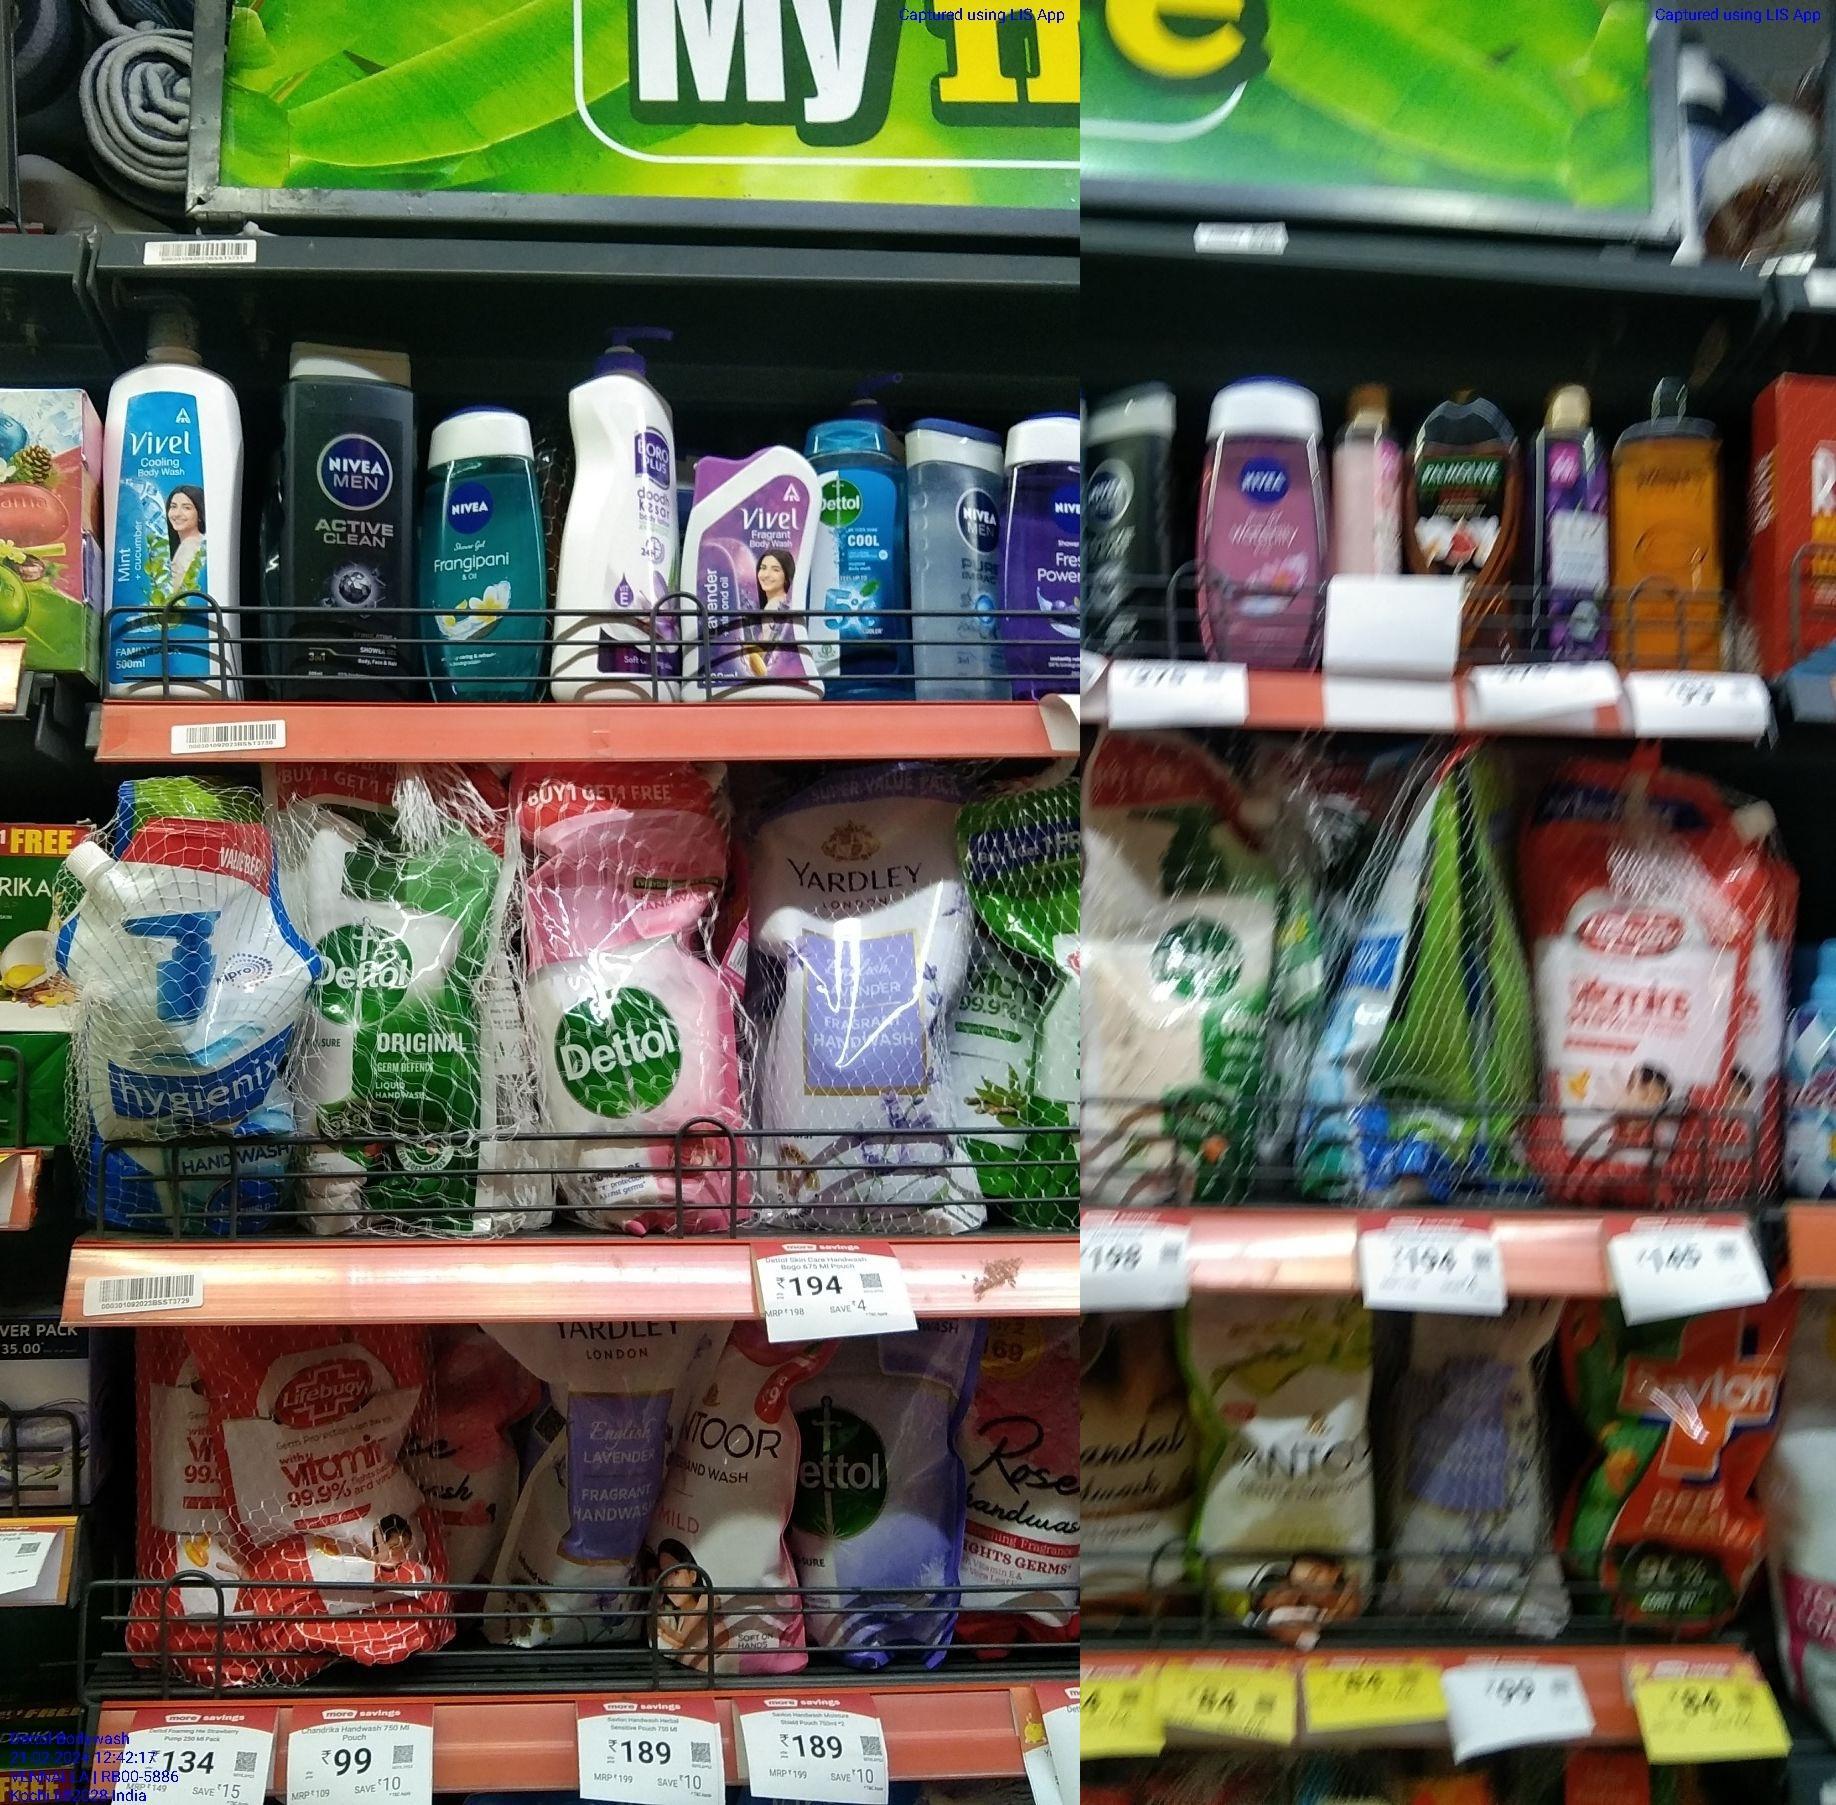Nivea_Shower_Gel_Frangipani_and_Oil_250ML: (415, 400, 549, 701)
